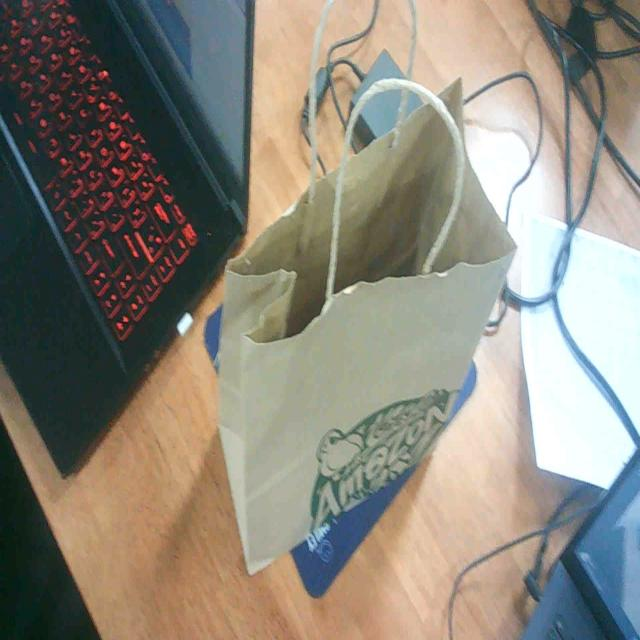bag: (235, 91, 496, 603)
